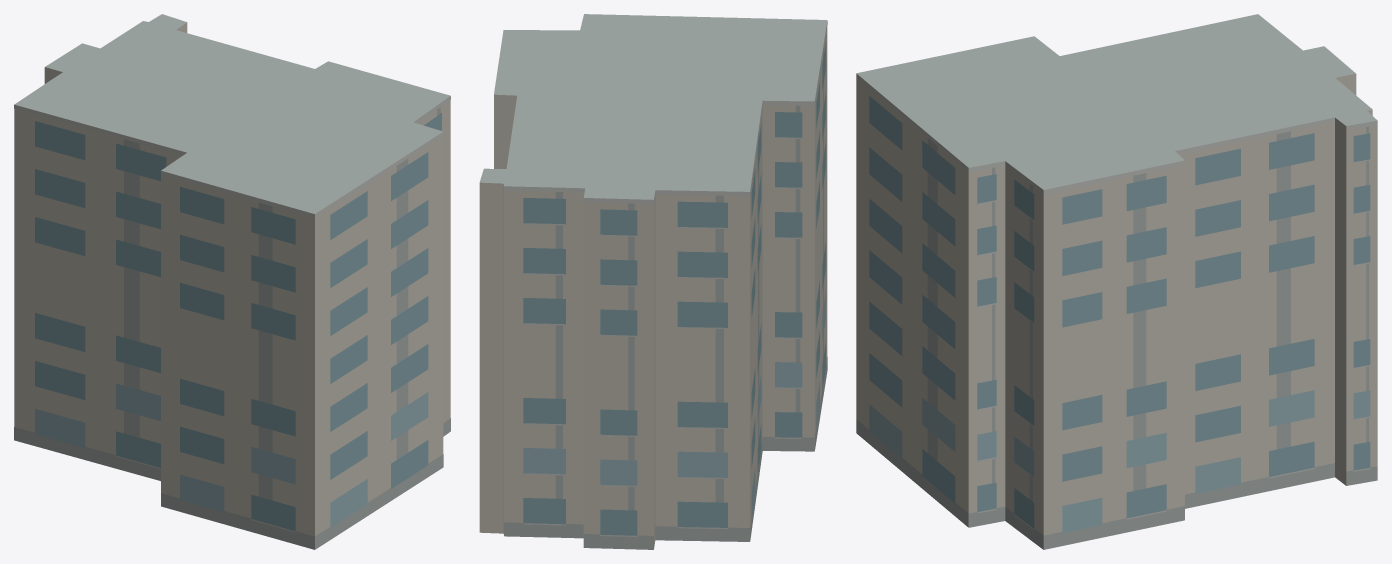
The model's file is survey-upis-32931400.glb.
The picture shows the model from 3 angles, left to right: view 1: azimuth 30°, elevation 25°; view 2: azimuth 150°, elevation 25°; view 3: azimuth 270°, elevation 25°; orthographic projection. The views are drawn at different scales.
Visible parts, largest first — view 1: survey-upis-32931400.tmp; view 2: survey-upis-32931400.tmp; view 3: survey-upis-32931400.tmp.
Part boxes in pixels (x1,y1,x2,y2): survey-upis-32931400.tmp: (14,14,450,549); survey-upis-32931400.tmp: (479,14,827,549); survey-upis-32931400.tmp: (856,14,1377,549).
Size of the model in its own units: 20.68 by 19.7 by 25.88.
